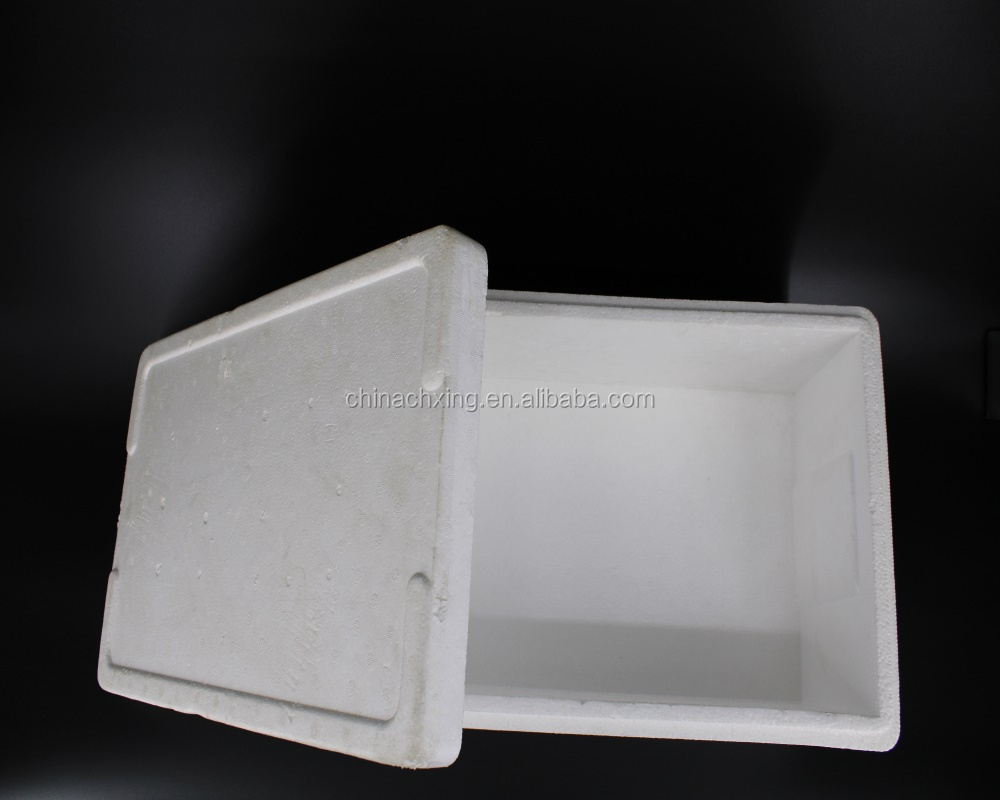泡沫箱: (98, 227, 900, 768)
